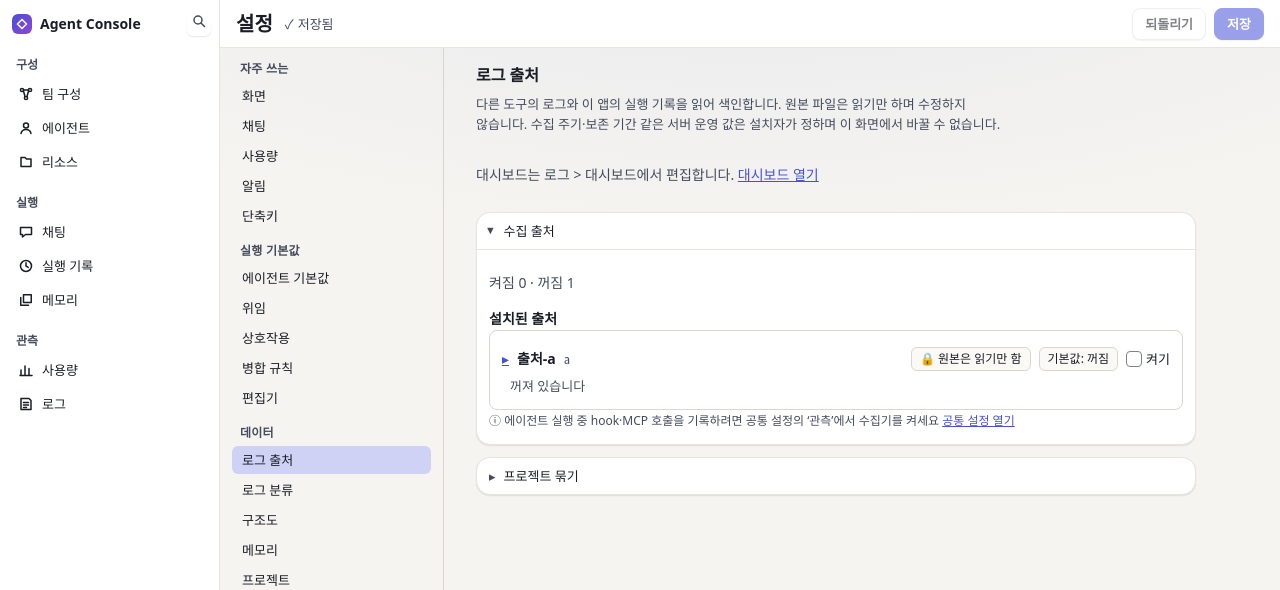
Test: 설정: 로그 출처 › 읽는 출처를 켜면 확인 다이얼로그가 뜨고 취소하면 설정이 바뀌지 않으며, 확인하면 저장 전 상태로 켜진다
Click the checkbox labelled "켜기".
click(1134, 359)  # box [1126,351,1142,367]
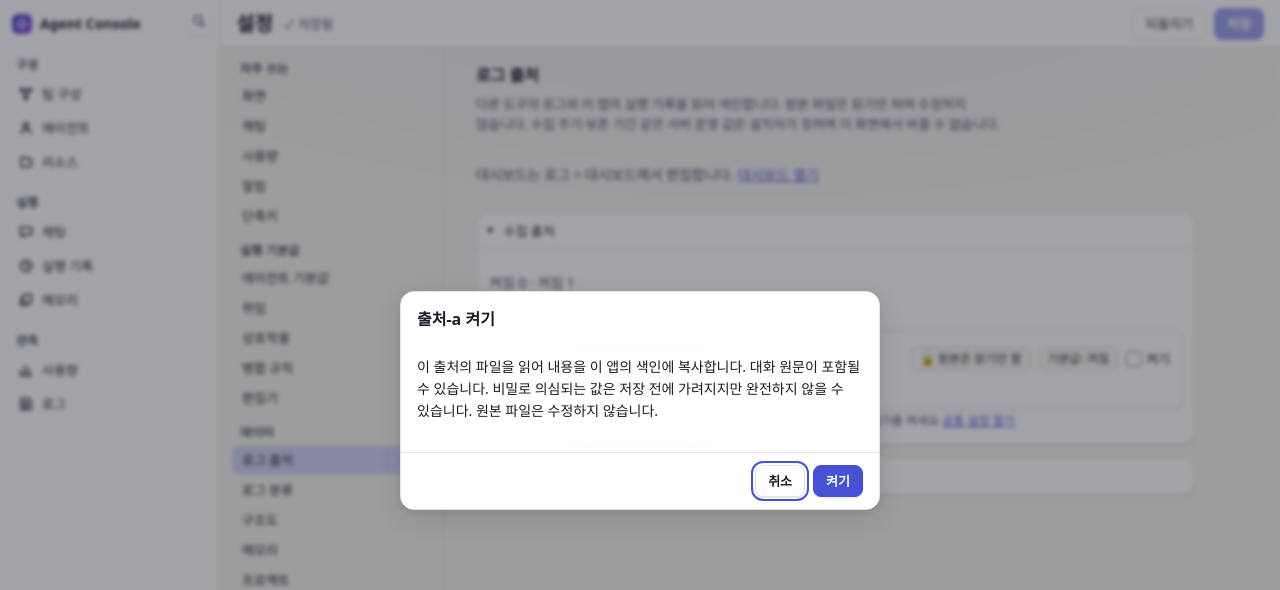
Expected: the dialog shows "대화 원문이 포함될 수 있습니다", [417,356,860,420]
Click the button "취소".
click(780, 480)  # box [755,464,805,496]
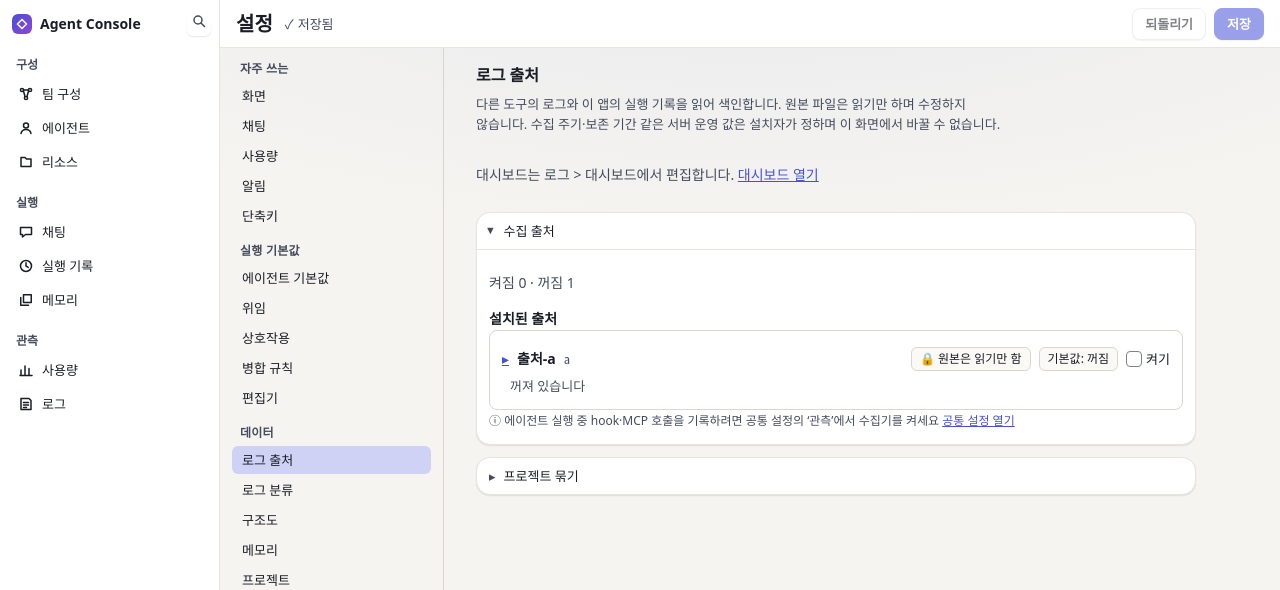
Expected: the dialog is gone
Click the checkbox labelled "켜기".
click(1134, 359)  # box [1126,351,1142,367]
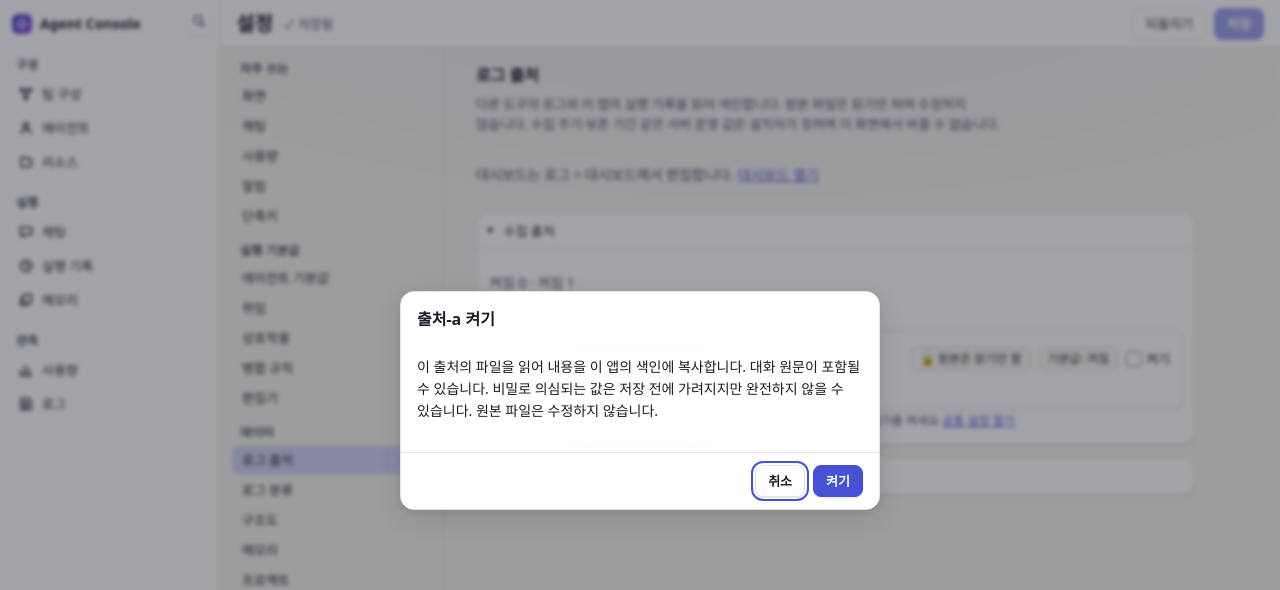
Click the button "켜기".
click(838, 480)  # box [813,464,863,496]
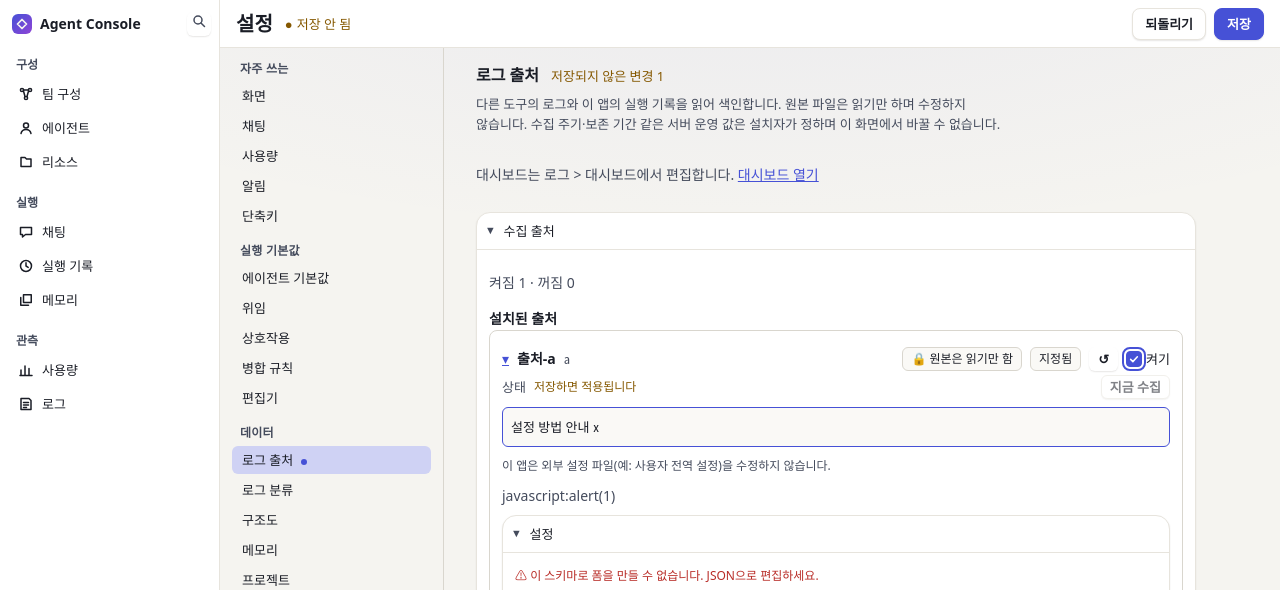
Expected: the checkbox labelled "켜기" is checked, [1126,351,1142,367]
Expected: the list item "출처-a" shows "저장하면 적용됩니다", [534,378,636,395]
Expected: the button "지금 수집" is disabled, [1101,375,1170,399]
